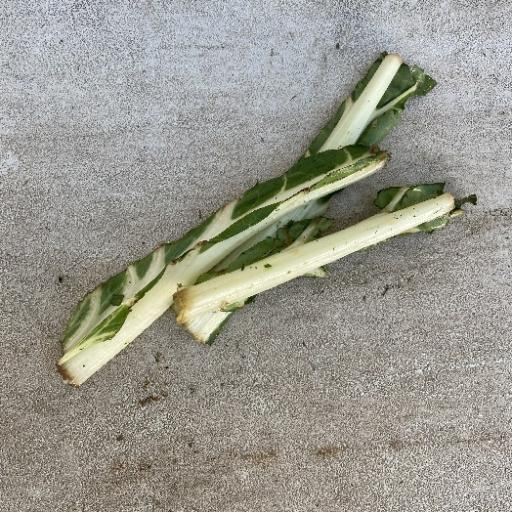Waste: (54, 50, 476, 388)
